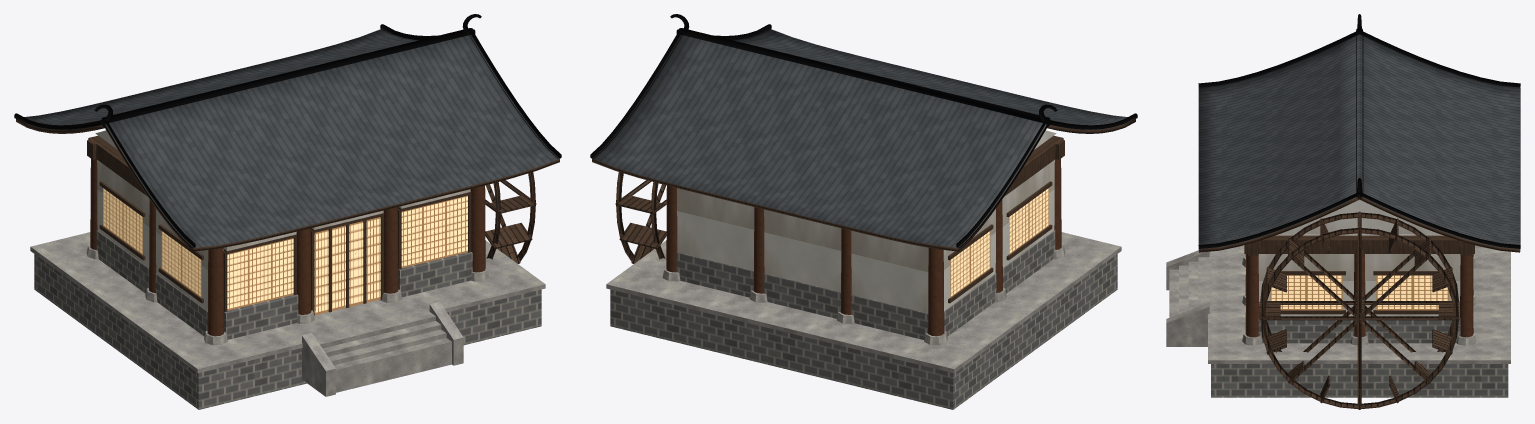
The model's file is watermill.glb.
The picture shows the model from 3 angles, left to right: view 1: azimuth 30°, elevation 25°; view 2: azimuth 150°, elevation 25°; view 3: azimuth 270°, elevation 25°; orthographic projection. The views are drawn at different scales.
Parts seen in each view (by area): view 1: MillRoof, MillLattice, MillPodiumCap, MillPodiumBase, MillDado, MillStairsfront, MillColumns, MillRoofRidge, MillFrames, MillWalls, Waterwheel, MillCheeksfront (+2 smaller); view 2: MillRoof, MillPodiumBase, MillWalls, MillPodiumCap, MillDado, MillColumns, MillRoofRidge, MillLattice, Waterwheel, MillBeams, MillFrames, MillColumnBases; view 3: MillRoof, Waterwheel, MillPodiumCap, MillPodiumBase, MillWalls, MillRoofRidge, MillLattice, MillDado, MillBeams, MillColumns, MillCheeksfront, MillStairsfront (+3 smaller).
Part boxes in pixels (x1,y1,x2,y2): MillRoof: (16,29,559,251); MillLattice: (103,188,467,315); MillPodiumCap: (30,232,545,373); MillPodiumBase: (34,254,541,409); MillDado: (96,207,472,339); MillStairsfront: (317,312,451,392); MillColumns: (90,159,485,336); MillRoofRidge: (14,14,561,248); MillFrames: (99,181,471,315); MillWalls: (97,160,470,310); Waterwheel: (485,172,536,263); MillCheeksfront: (302,301,463,396); MillRoof: (592,29,1135,251); MillPodiumBase: (610,254,1117,409); MillWalls: (677,160,1054,313); MillPodiumCap: (606,232,1121,373); MillDado: (676,230,1055,339); MillColumns: (666,159,1061,336); MillRoofRidge: (590,14,1137,248); MillLattice: (950,188,1048,297); Waterwheel: (615,172,666,263); MillBeams: (1004,135,1064,196); MillFrames: (948,181,1052,303); MillColumnBases: (662,244,1065,345); MillRoof: (1198,34,1520,252); Waterwheel: (1259,211,1459,409); MillPodiumCap: (1208,234,1510,363); MillPodiumBase: (1211,364,1508,397); MillWalls: (1258,254,1460,317); MillRoofRidge: (1198,14,1520,248); MillLattice: (1270,275,1448,310); MillDado: (1258,318,1460,343); MillBeams: (1244,235,1474,255); MillColumns: (1245,250,1473,337); MillCheeksfront: (1166,250,1209,346); MillStairsfront: (1169,257,1208,317).
Size of what is drawn, in the model's own units: 13.35 by 8.27 by 11.68.
10 materials, 10 textured.
